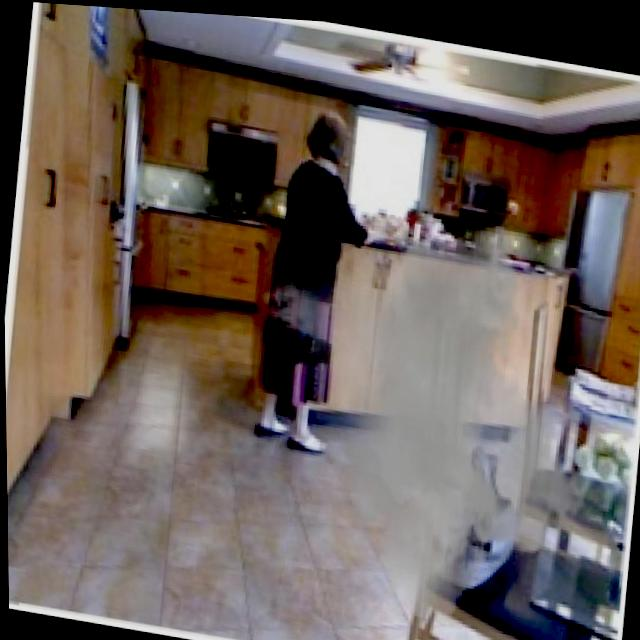no_helmet: (231, 185, 616, 638)
